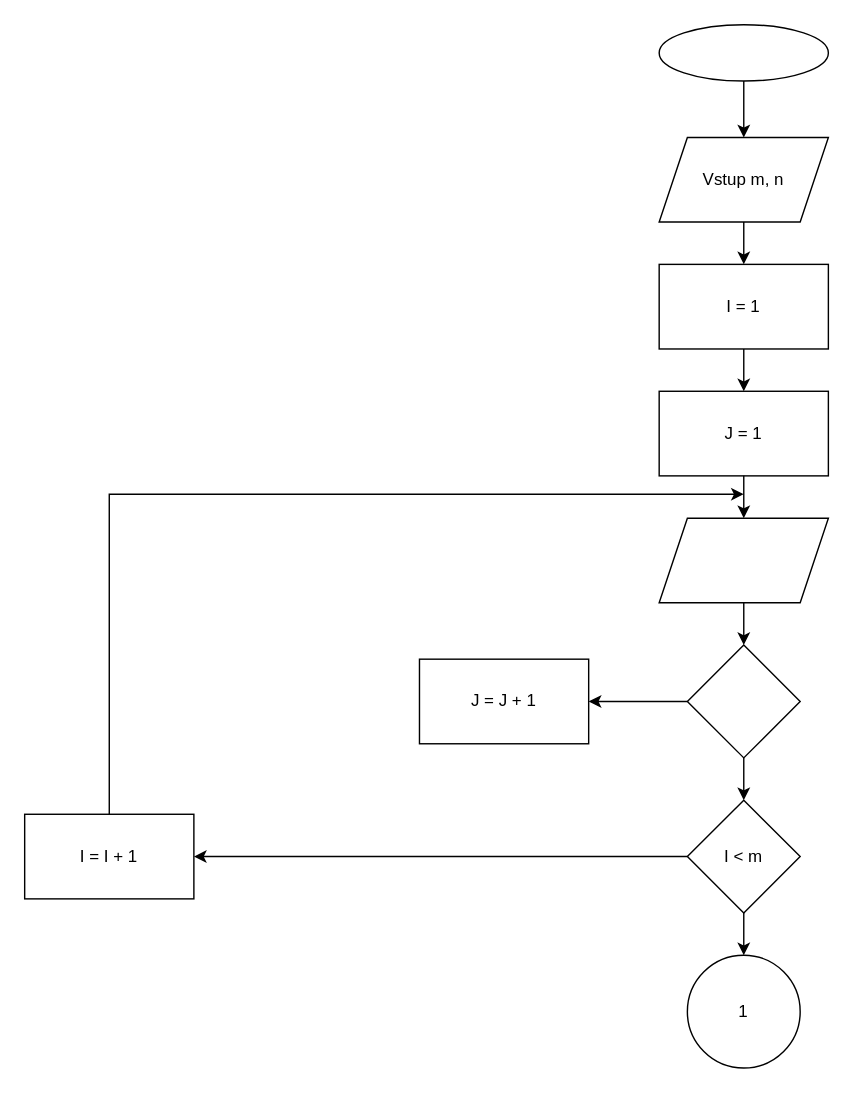
Image size: 853x1093. Some labels were removed from this diagram. The box of each missing label's shape, as (x1, y1, x2, y2) in pixels:
J < n: (686, 644, 800, 758)
Start: (658, 23, 828, 81)
Vstup Aj,I: (658, 517, 828, 603)
